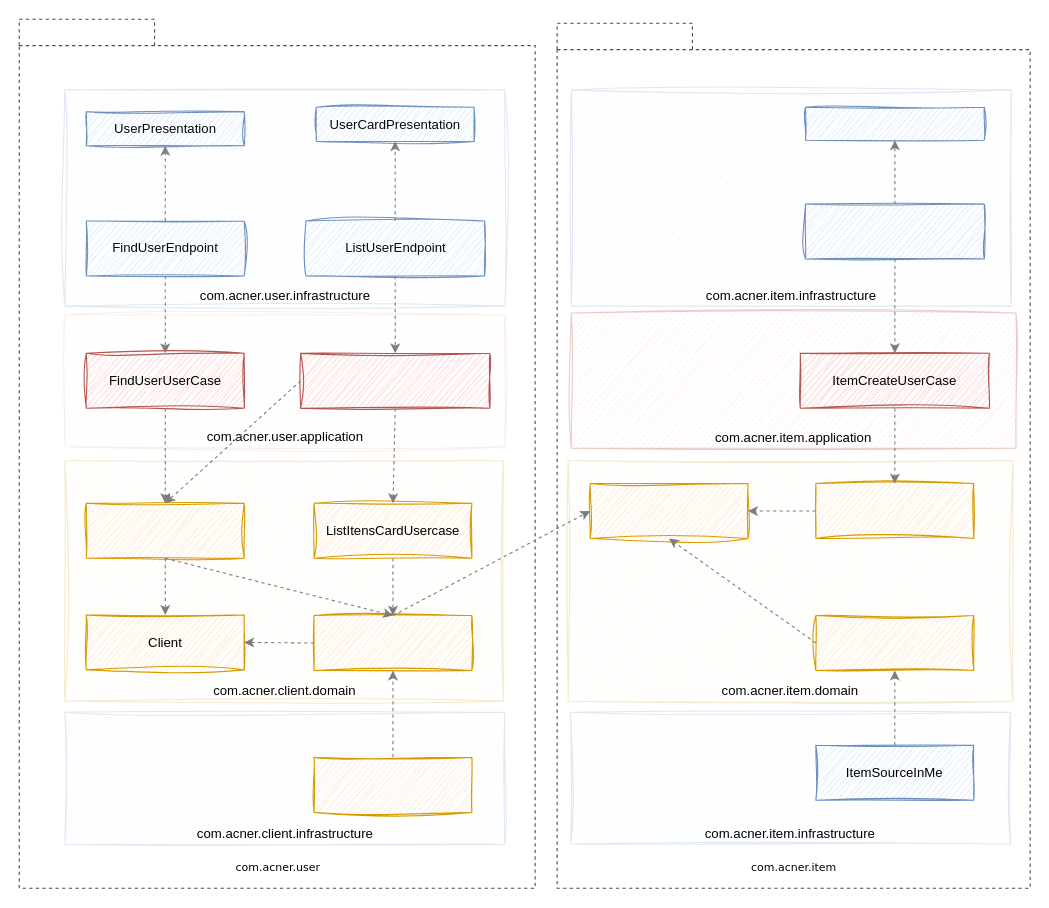
Image size: 1049x908. Some labels were removed from this diagram. The shapes that lost their labels are listed below. From the top down, each one's centre as x and y in pixels, then its label:
At [894,123]: "ItemCommandRequest".
At [894,231]: "ItemCreateEndpoint".
At [395,380]: "ListItensCardUserUsercase".
At [164,530]: "FindClientService".
At [668,510]: "Item".
At [894,510]: "ItemCreateService".
At [392,642]: "<<interface>> ClientDataSource".
At [894,642]: "<<interface>> ItemDataSource".
At [392,784]: "ClientSourceInMe".
